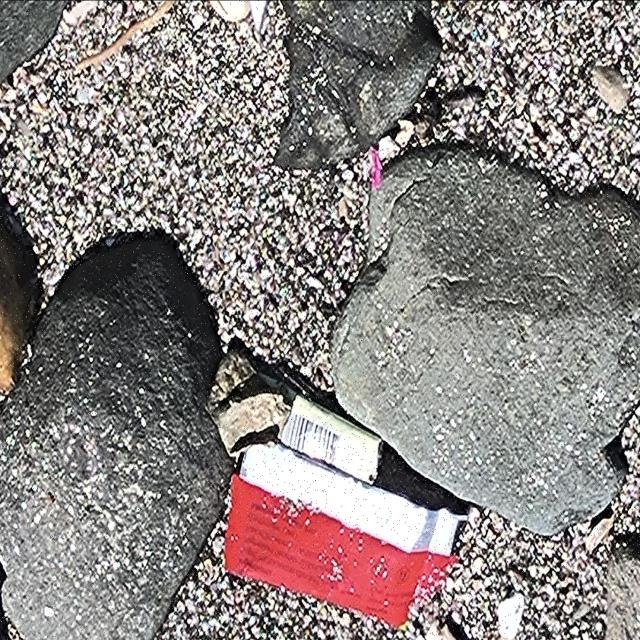plastic_waste: (227, 397, 460, 640)
